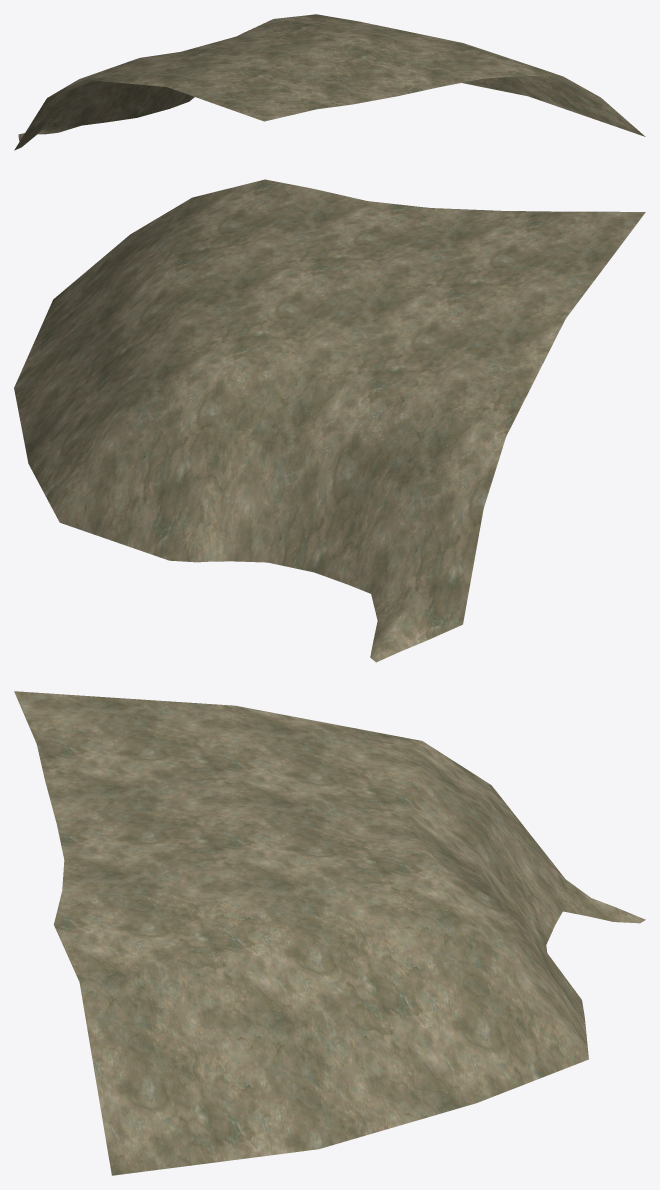
The model's file is OVERHILL_A_01_OBJECT160.fbx.
The picture shows the model from 3 angles, top to bottom: view 1: azimuth 30°, elevation 25°; view 2: azimuth 150°, elevation 25°; view 3: azimuth 270°, elevation 25°; orthographic projection. The views are drawn at different scales.
Visible parts, largest first — view 1: OVERHILL_A_01_OBJECT160; view 2: OVERHILL_A_01_OBJECT160; view 3: OVERHILL_A_01_OBJECT160.
Part boxes in pixels (box(x1,y1,x2,y2)): OVERHILL_A_01_OBJECT160: box(14, 14, 645, 150); OVERHILL_A_01_OBJECT160: box(14, 179, 645, 662); OVERHILL_A_01_OBJECT160: box(14, 691, 645, 1175).
Size of the model in its own units: 318912 by 111749 by 264064.
2 materials, 2 textured.
